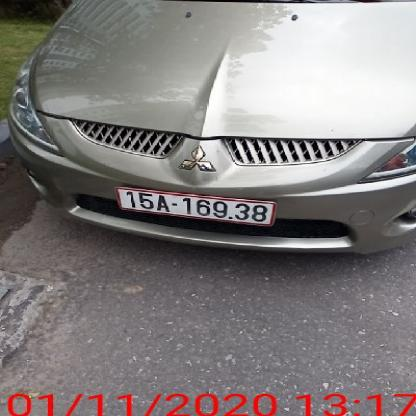biensoxe: (116, 183, 284, 230)
